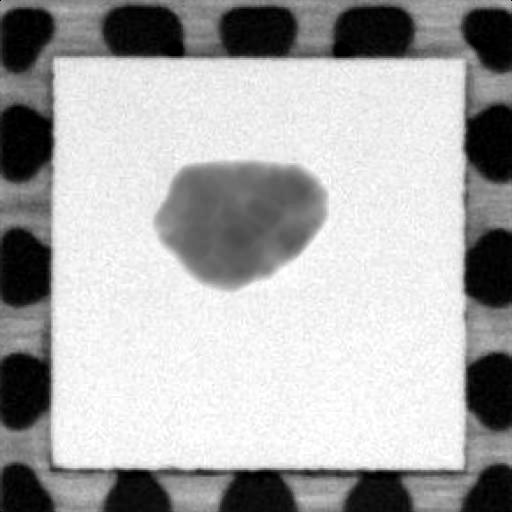DIE_INK: (140, 150, 333, 298)
